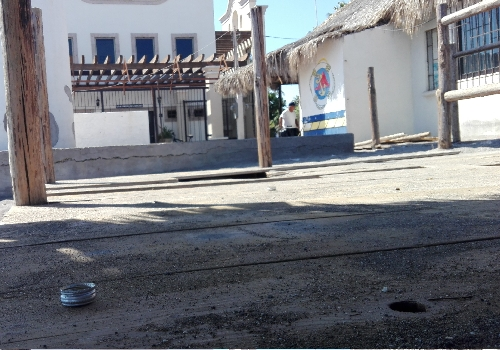trash: (49, 269, 104, 313)
